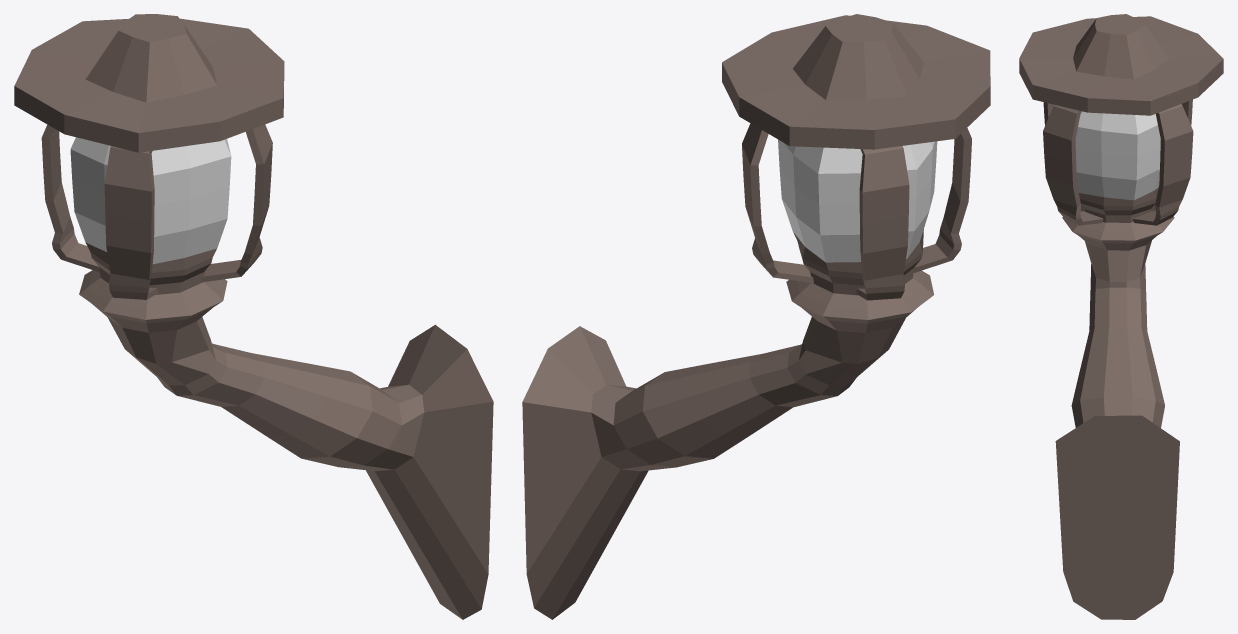
File: wallLight.fbx
3 renders of one model, left to right at view 1: azimuth 30°, elevation 25°; view 2: azimuth 150°, elevation 25°; view 3: azimuth 270°, elevation 25°, orthographic. The views are drawn at different scales.
Visible parts, largest first — view 1: wallLight; view 2: wallLight; view 3: wallLight.
Boxes of the visible parts, x1=… form: wallLight: x1=14, y1=14, x2=493, y2=619; wallLight: x1=522, y1=14, x2=990, y2=619; wallLight: x1=1019, y1=14, x2=1223, y2=619.
Bounding box in the file's own units: 207 × 313 × 119.
